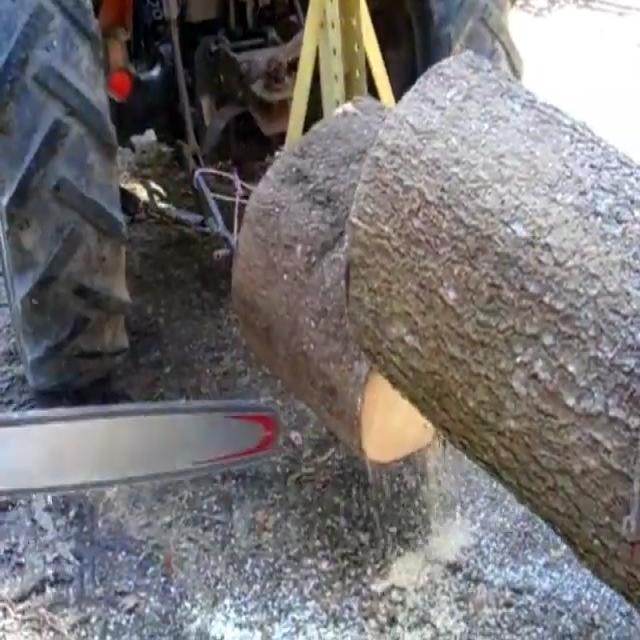Chainsaw: (0, 360, 292, 526)
